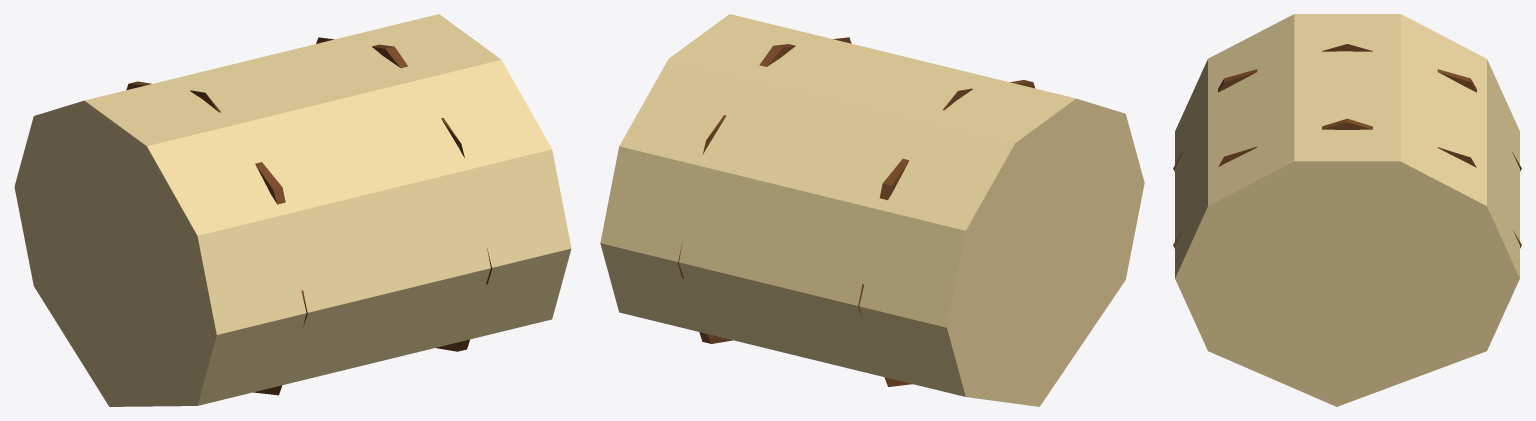
Rendered from hay_bale_round.fbx.
3 views of the same model, side by side, from view 1: azimuth 30°, elevation 25°; view 2: azimuth 150°, elevation 25°; view 3: azimuth 270°, elevation 25° (orthographic). The views are drawn at different scales.
Visible parts, largest first — view 1: hay_bale_round; view 2: hay_bale_round; view 3: hay_bale_round.
Part boxes in pixels (bbox=[...]): hay_bale_round: bbox=[14, 14, 571, 406]; hay_bale_round: bbox=[600, 14, 1144, 406]; hay_bale_round: bbox=[1173, 14, 1521, 406].
Size of the model in its own units: 1.5 by 1.2 by 1.5.
